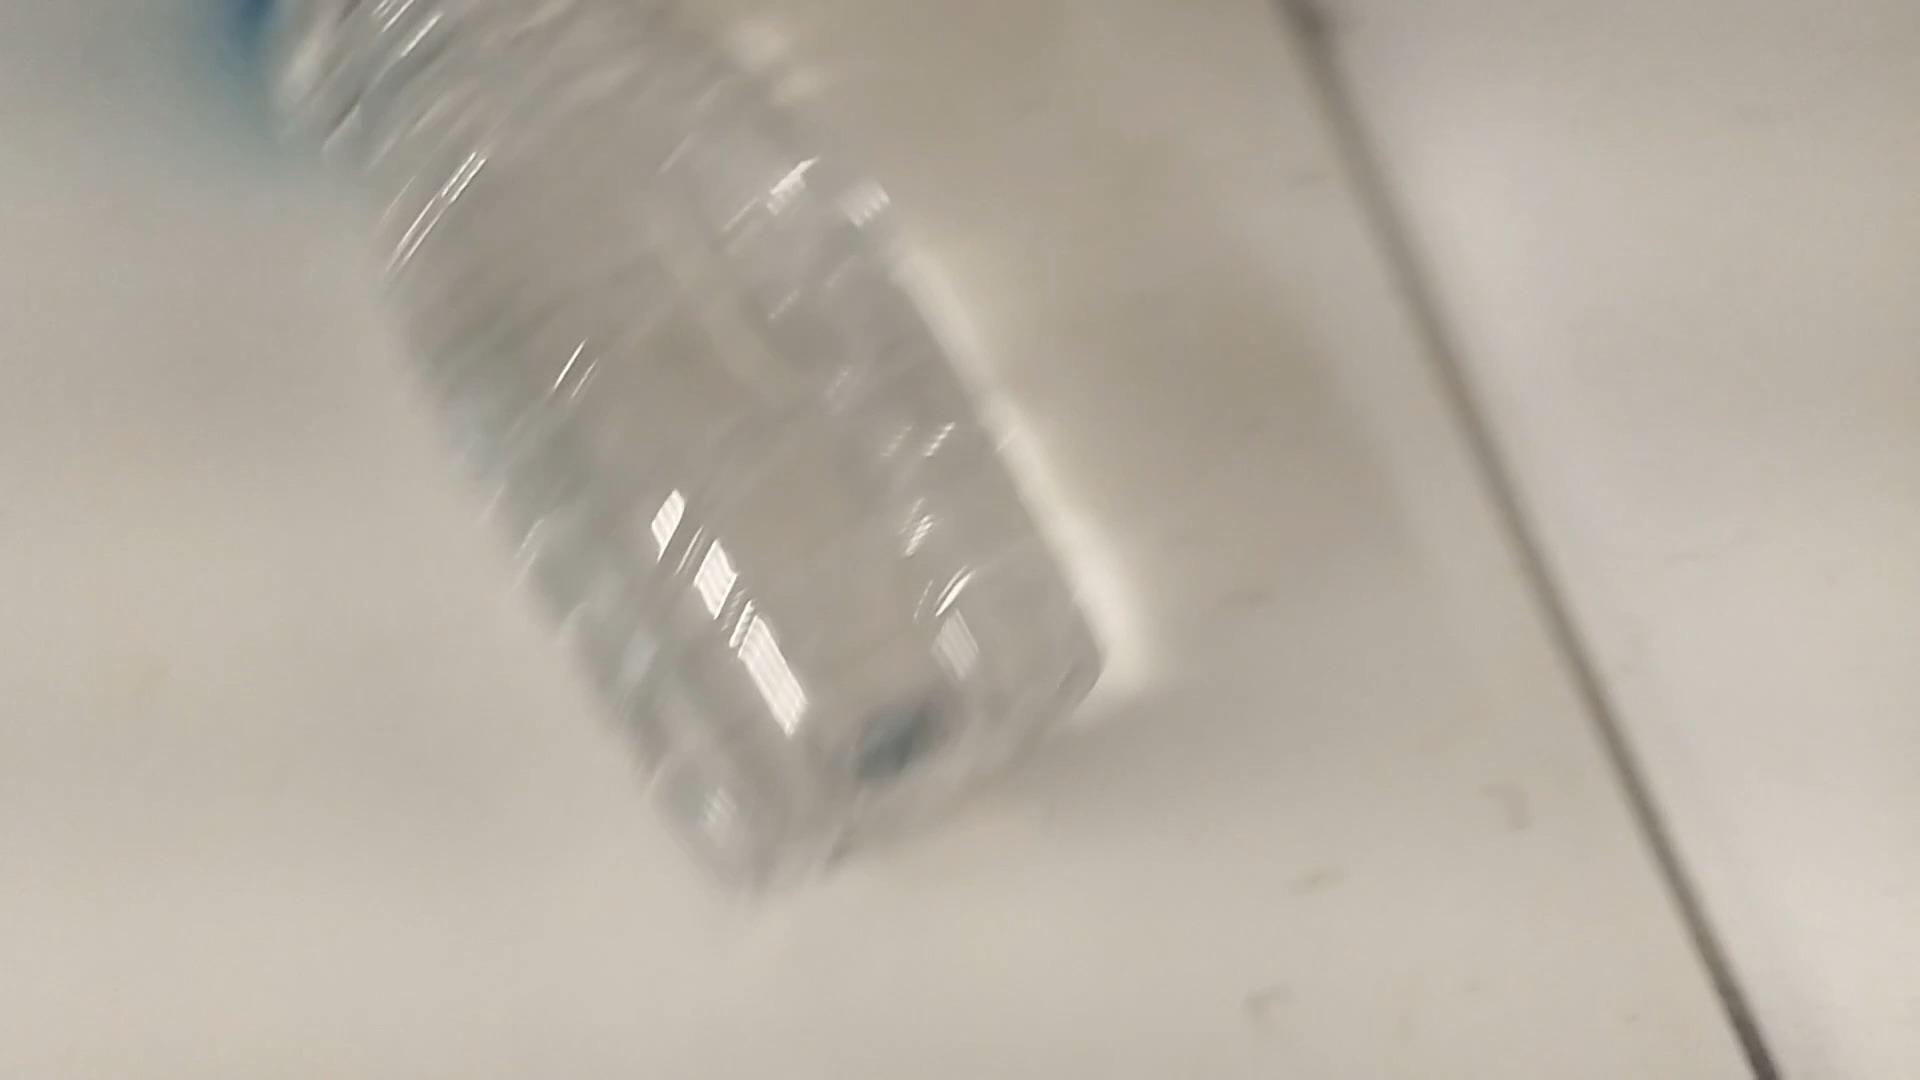agua: (206, 0, 1117, 898)
